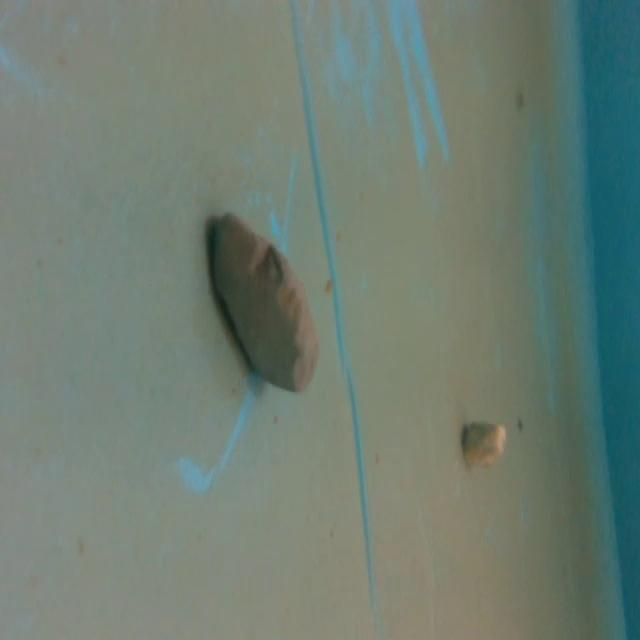rock: (200, 203, 326, 398), (458, 417, 512, 473)
